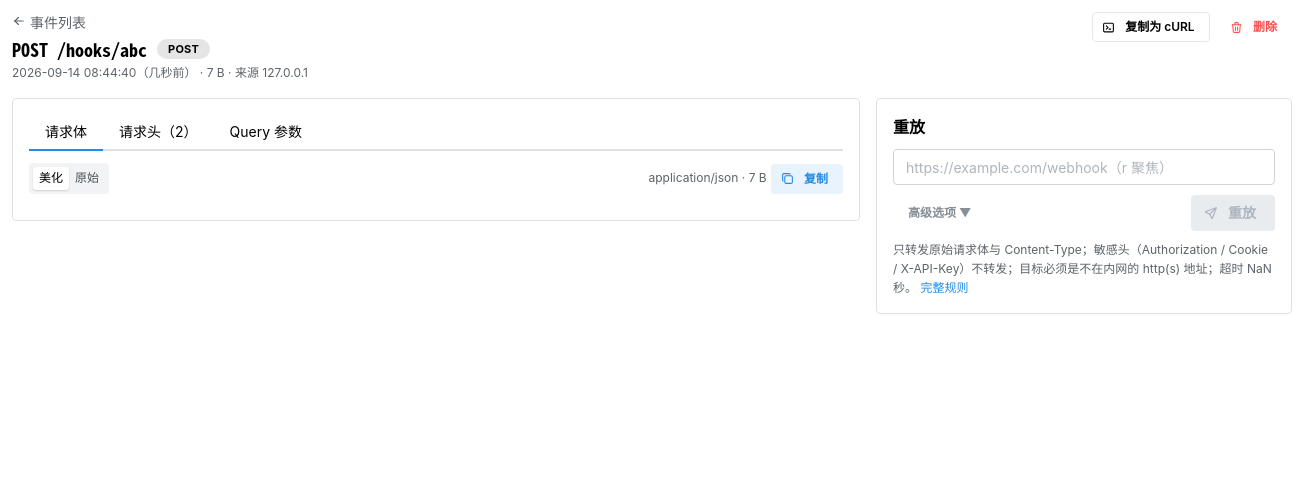
Scenario: EventScreen replay failures › derives the wait time from the message when the header is missing
Expected: the heading "POST /hooks/abc" is shown, [12, 36, 147, 62]
Step 1. Type "http://example.com/hook" into the field named "重放目标地址" → {"x": 1084, "y": 167}, box [893, 149, 1275, 185]
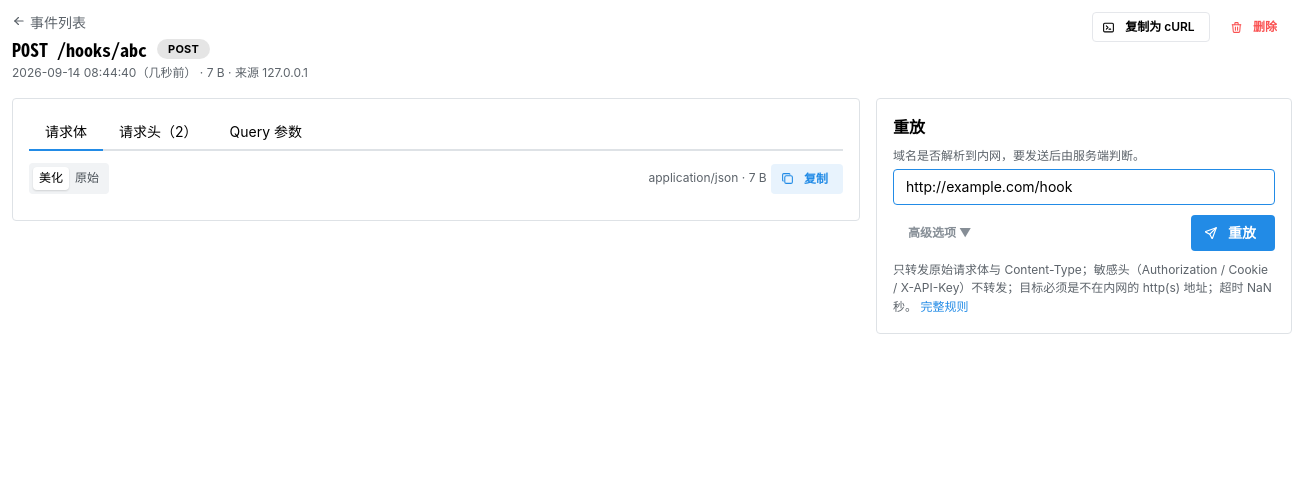
Step 2. Click the button "重放" → {"x": 1233, "y": 233}, box [1191, 215, 1275, 251]
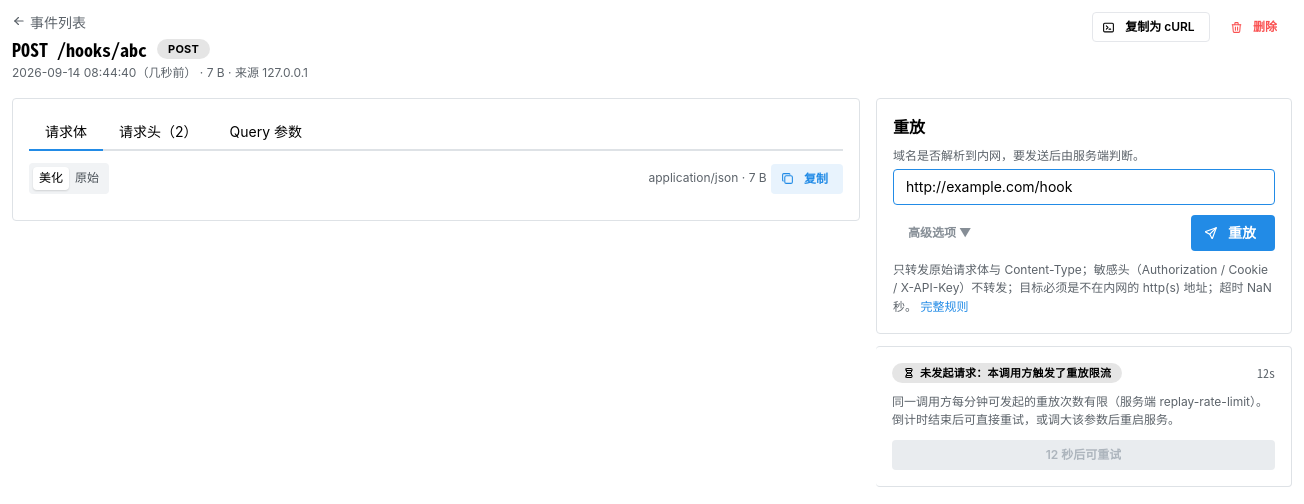
Expected: the button "12 秒后可重试" is shown, [892, 440, 1275, 470]
